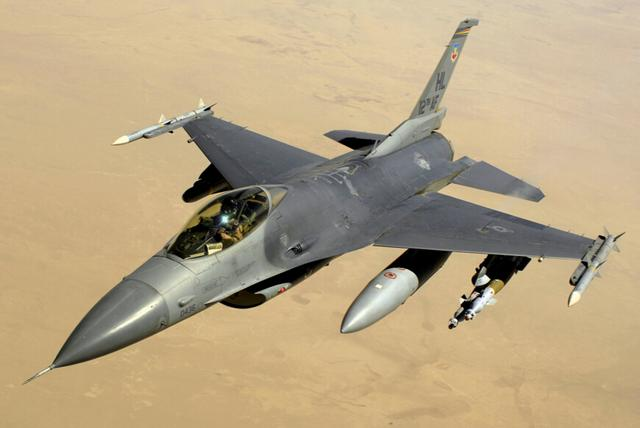airplane: (23, 15, 626, 388)
